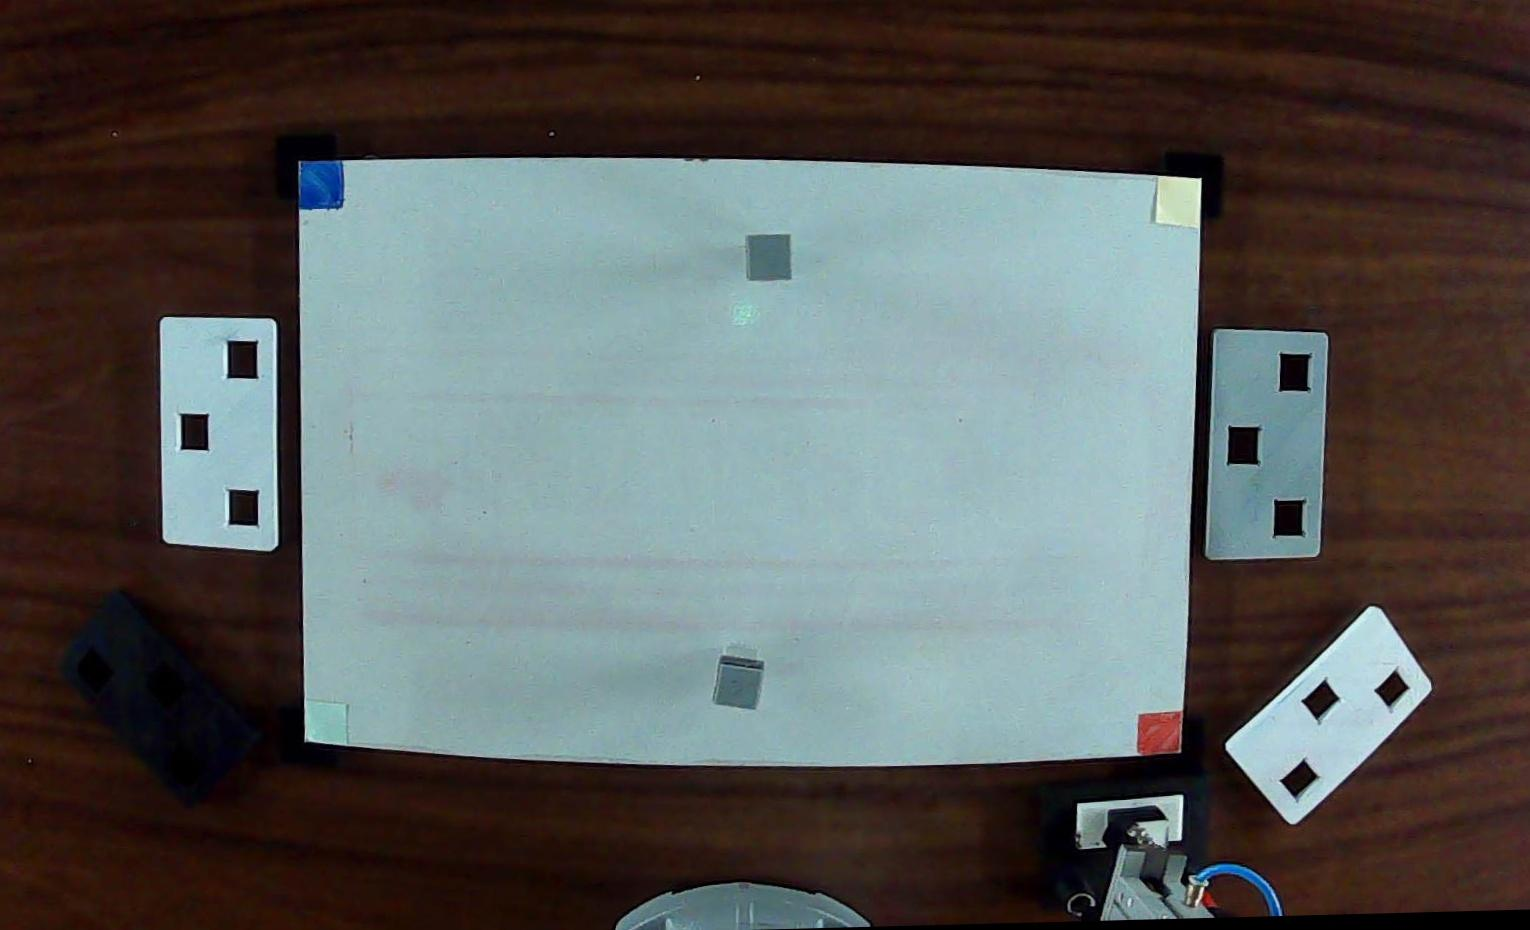peca_cinza: (714, 663, 763, 710), (746, 235, 791, 280)
